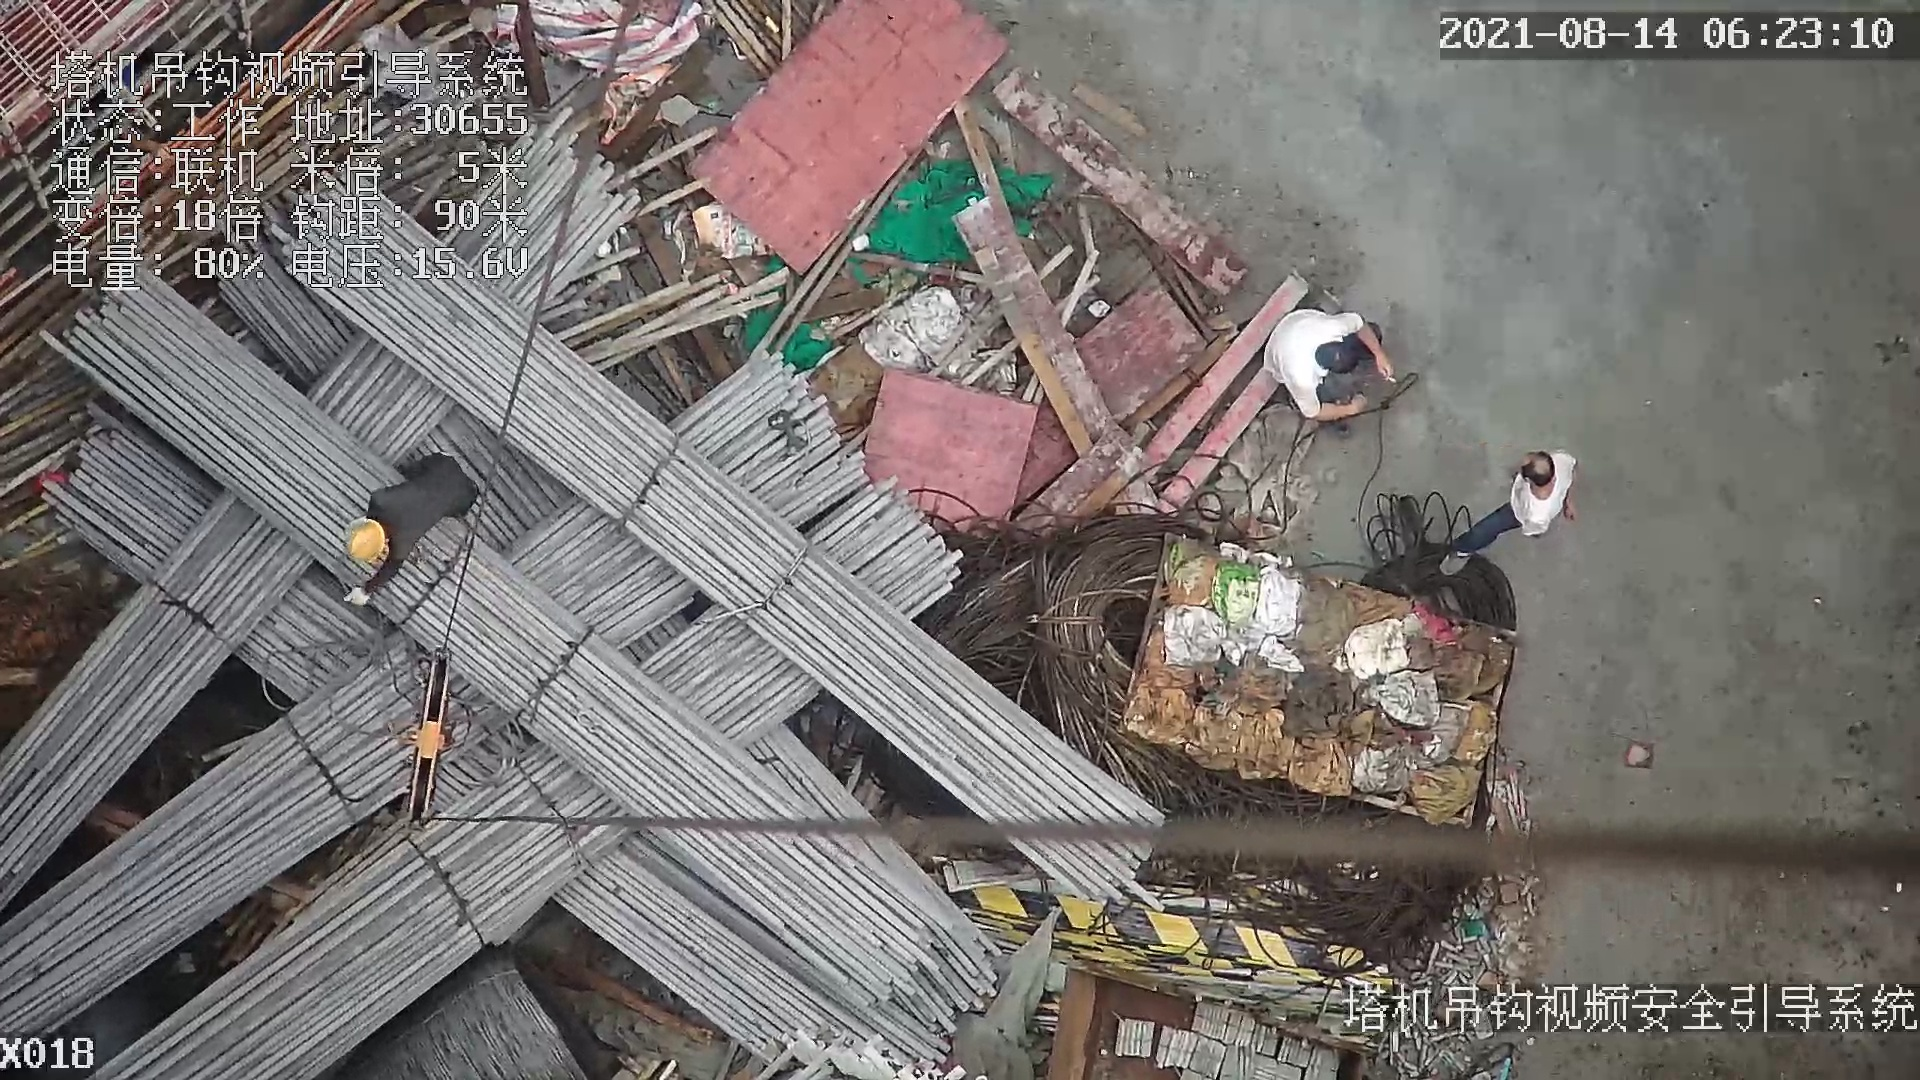board: (685, 4, 1019, 304)
helmet: (341, 517, 384, 558)
hook: (391, 633, 453, 839)
person: (335, 439, 477, 608), (1431, 436, 1592, 583), (1238, 299, 1396, 428)
